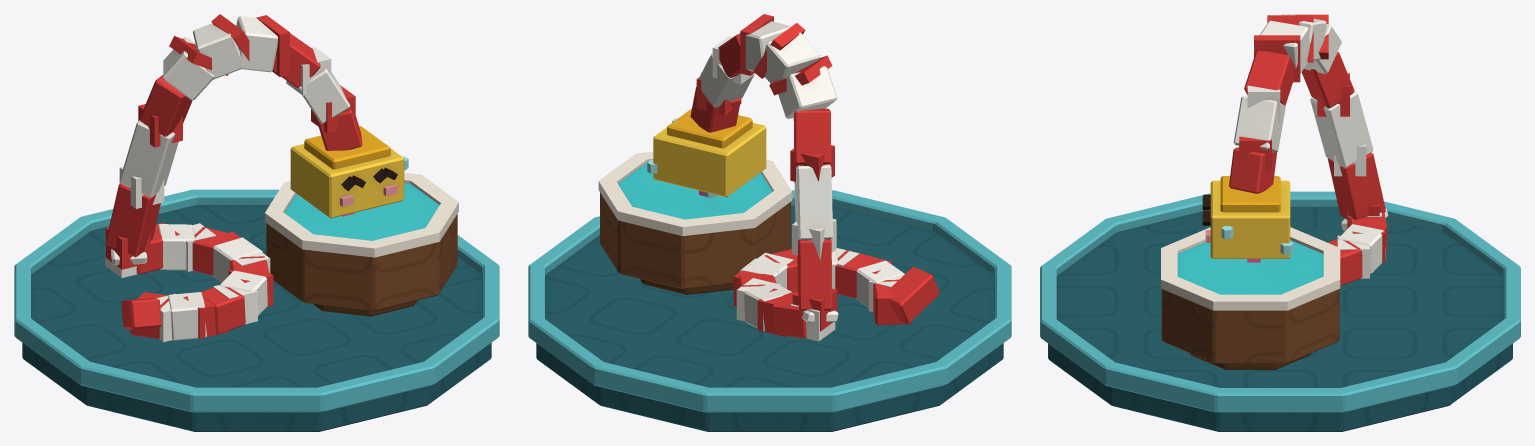
Rendered from StrawSnake.fbx.
The picture shows the model from 3 angles, left to right: view 1: azimuth 30°, elevation 25°; view 2: azimuth 150°, elevation 25°; view 3: azimuth 270°, elevation 25°; orthographic projection.
Parts seen in each view (by area): view 1: Art_StrawSnake_Stand, Art_StrawSnake_Coconut, Art_StrawSnake_Body, Art_StrawSnake_Neck, Art_StrawSnake_Head, Art_StrawSnake_TailTip; view 2: Art_StrawSnake_Stand, Art_StrawSnake_Coconut, Art_StrawSnake_Body, Art_StrawSnake_Neck, Art_StrawSnake_Head, Art_StrawSnake_TailTip; view 3: Art_StrawSnake_Stand, Art_StrawSnake_Coconut, Art_StrawSnake_Body, Art_StrawSnake_Neck, Art_StrawSnake_Head.
Boxes of the visible parts, box(x1,y1,x2,y2) form: Art_StrawSnake_Stand: box(14, 189, 499, 431); Art_StrawSnake_Coconut: box(265, 156, 458, 316); Art_StrawSnake_Body: box(105, 75, 273, 342); Art_StrawSnake_Neck: box(163, 14, 362, 150); Art_StrawSnake_Head: box(290, 126, 404, 218); Art_StrawSnake_TailTip: box(121, 298, 161, 329); Art_StrawSnake_Stand: box(528, 190, 1011, 431); Art_StrawSnake_Coconut: box(598, 118, 792, 294); Art_StrawSnake_Body: box(733, 108, 911, 341); Art_StrawSnake_Neck: box(690, 14, 837, 132); Art_StrawSnake_Head: box(653, 108, 766, 197); Art_StrawSnake_TailTip: box(888, 267, 939, 323); Art_StrawSnake_Stand: box(1040, 191, 1520, 431); Art_StrawSnake_Coconut: box(1161, 226, 1340, 369); Art_StrawSnake_Body: box(1301, 52, 1388, 289); Art_StrawSnake_Neck: box(1229, 14, 1341, 193); Art_StrawSnake_Head: box(1202, 176, 1290, 262).
Bounding box in the file's own units: 2.9 × 2.06 × 2.9.
